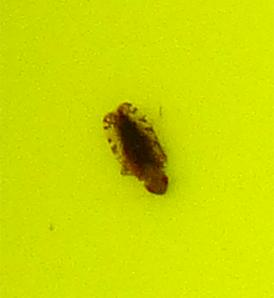Hemiptera: (100, 100, 174, 198)
